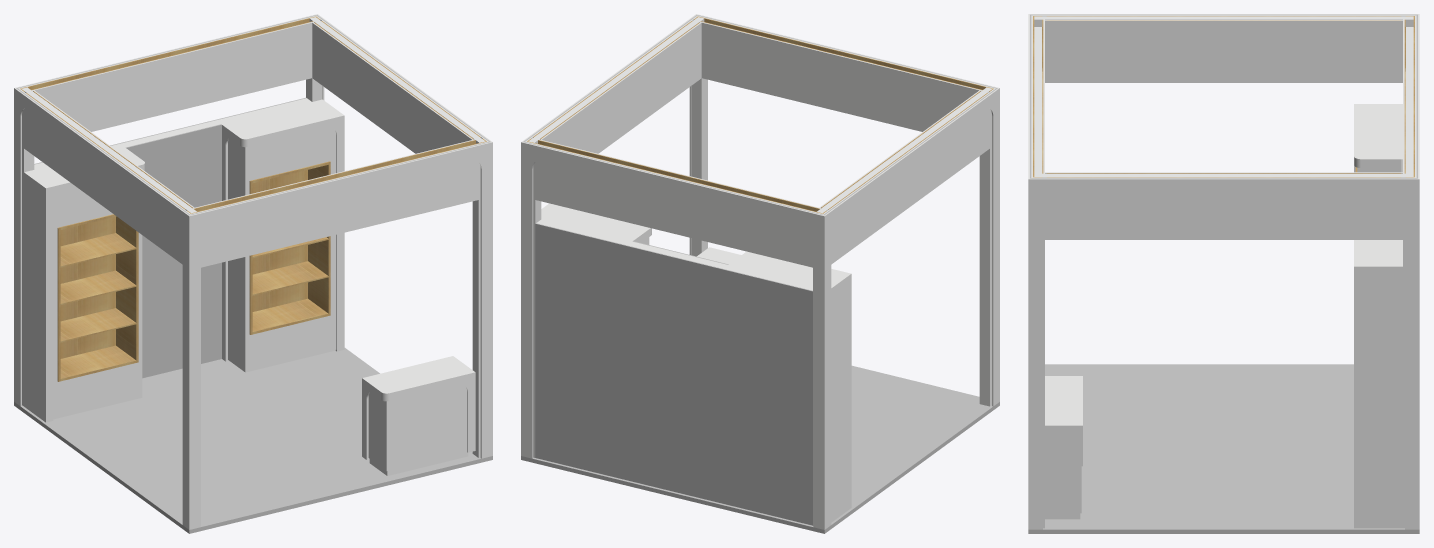
Rendered from health-territory-v23.glb.
The picture shows the model from 3 angles, left to right: view 1: azimuth 30°, elevation 25°; view 2: azimuth 150°, elevation 25°; view 3: azimuth 270°, elevation 25°; orthographic projection. The views are drawn at different scales.
Parts seen in each view (by area): view 1: Body1 (×34), Body2 (×14), Body3 (×6), Body4 (×2); view 2: Body1 (×18), Body2 (×7), Body3 (×3), Body4 (×4); view 3: Body1 (×16), Body2 (×6), Body4 (×2), Body3.
Boxes of the visible parts, <box> form: Body1 (×34): <box>14,17,492,533</box>; Body2 (×14): <box>18,21,492,528</box>; Body3 (×6): <box>14,88,487,400</box>; Body4 (×2): <box>160,142,492,399</box>; Body1 (×18): <box>521,17,999,533</box>; Body2 (×7): <box>576,22,999,406</box>; Body3 (×3): <box>521,178,853,458</box>; Body4 (×4): <box>691,78,999,529</box>; Body1 (×16): <box>1028,16,1419,533</box>; Body2 (×6): <box>1031,14,1417,528</box>; Body4 (×2): <box>1028,152,1417,529</box>; Body3: <box>1030,385,1042,529</box>.
Bounding box in the file's own units: 4 × 4 × 4.
Materials: 9 (1 with a texture image).
